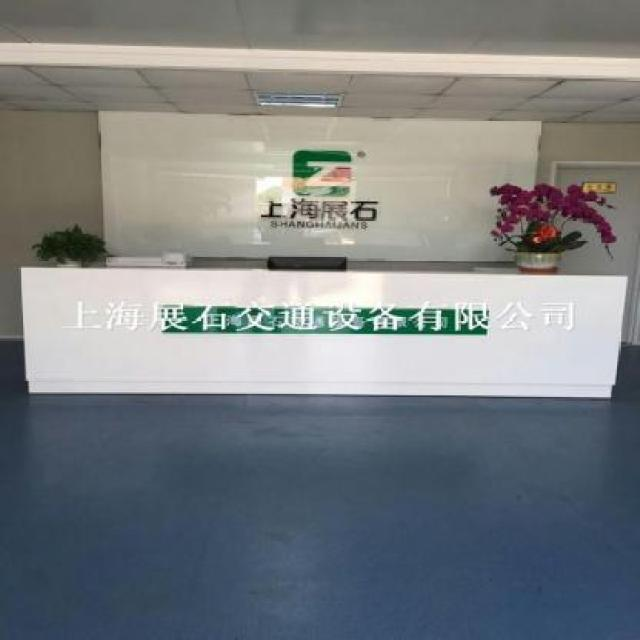frontdesk: (11, 248, 631, 412)
